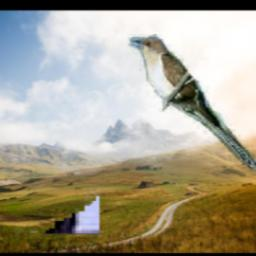Crow: (8, 26, 98, 234)
Cuckoo: (127, 34, 256, 174)
